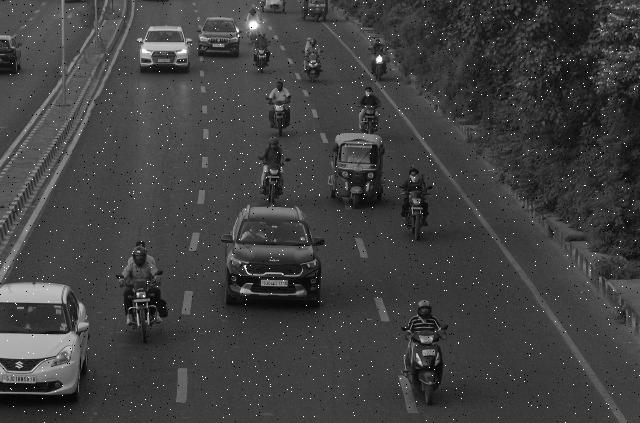With Helmet: (132, 245, 148, 265), (416, 299, 432, 319), (268, 137, 280, 151)
Without Helmet: (407, 165, 421, 181), (274, 80, 284, 91), (366, 87, 372, 98)
